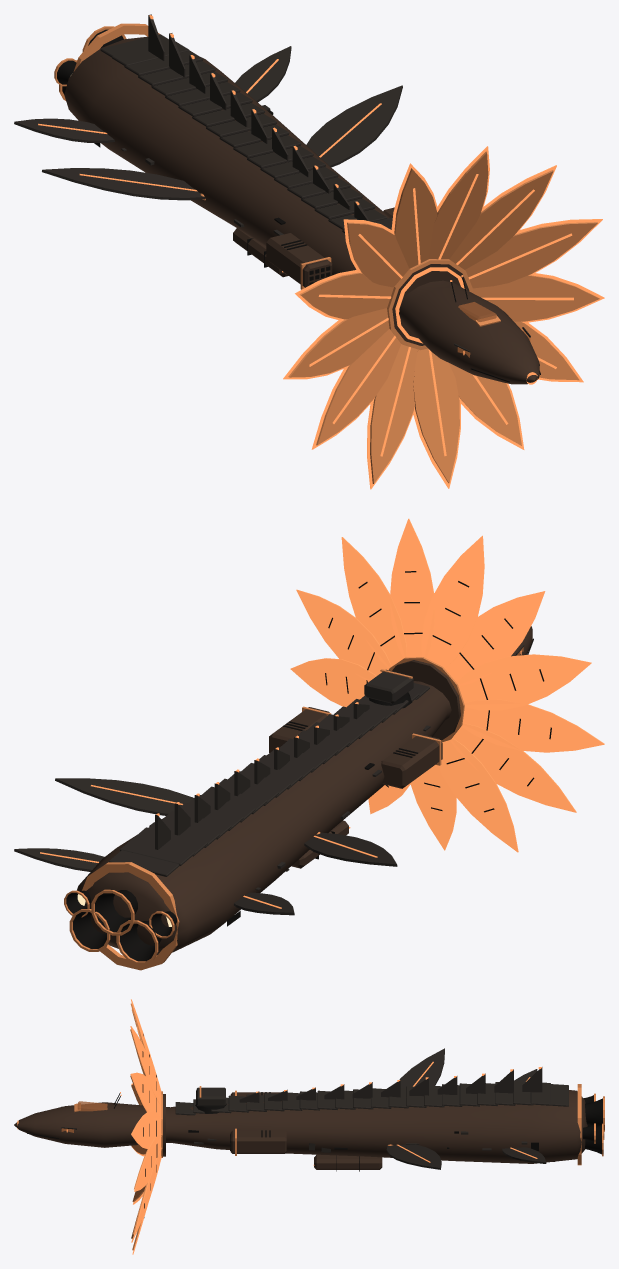
File: kryza-heliotropi-hawk-3-lod0.glb
The picture shows the model from 3 angles, top to bottom: view 1: azimuth 30°, elevation 25°; view 2: azimuth 150°, elevation 25°; view 3: azimuth 270°, elevation 25°; orthographic projection. The views are drawn at different scales.
Bounding box in the file's own units: 23.02 × 20.62 × 47.94.
